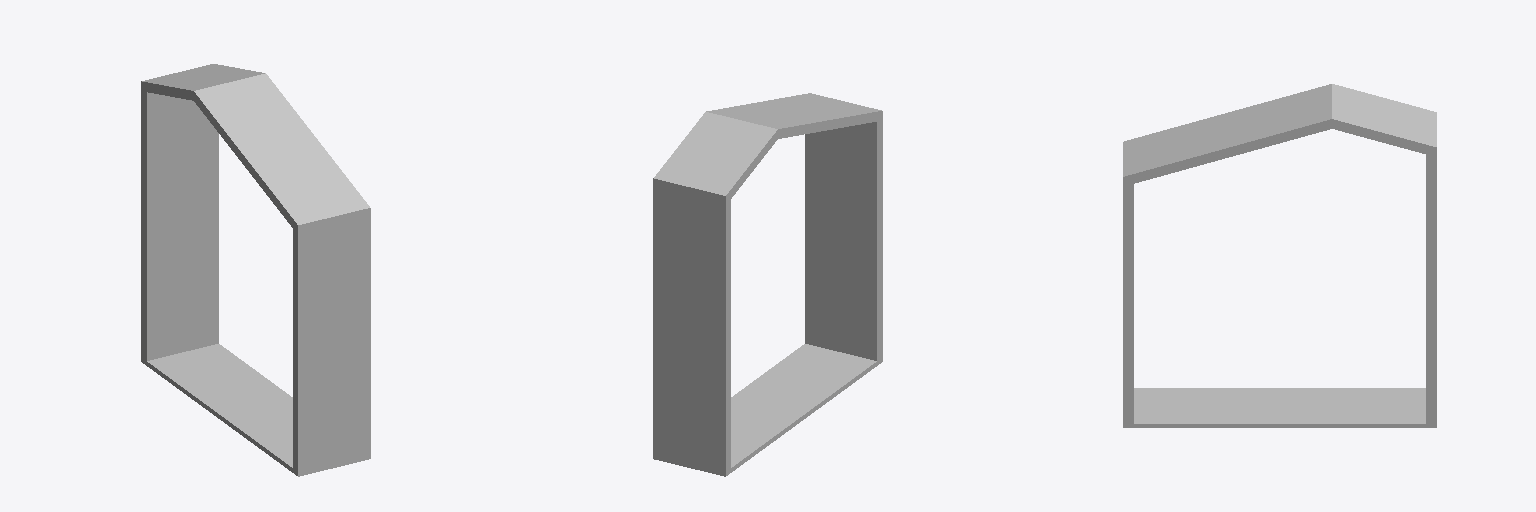
Rendered from modulo_espacio_80cm.obj.
3 renders of one model, left to right at view 1: azimuth 30°, elevation 25°; view 2: azimuth 150°, elevation 25°; view 3: azimuth 270°, elevation 25°, orthographic.
Parts seen in each view (by area): view 1: Mesh2 m_dulo_espacio_80cm_dwg1 Model; view 2: Mesh2 m_dulo_espacio_80cm_dwg1 Model; view 3: Mesh2 m_dulo_espacio_80cm_dwg1 Model.
Boxes of the visible parts, <box> form: Mesh2 m_dulo_espacio_80cm_dwg1 Model: <box>141,64,370,476</box>; Mesh2 m_dulo_espacio_80cm_dwg1 Model: <box>653,93,882,476</box>; Mesh2 m_dulo_espacio_80cm_dwg1 Model: <box>1123,84,1436,427</box>.
Size of the model in its own units: 801 by 3266 by 3001.